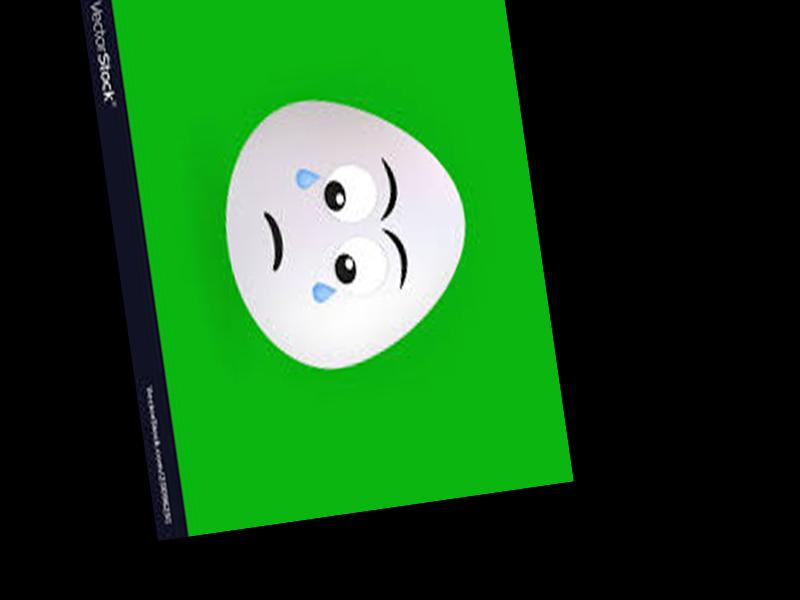Eggs: (208, 78, 481, 379)
